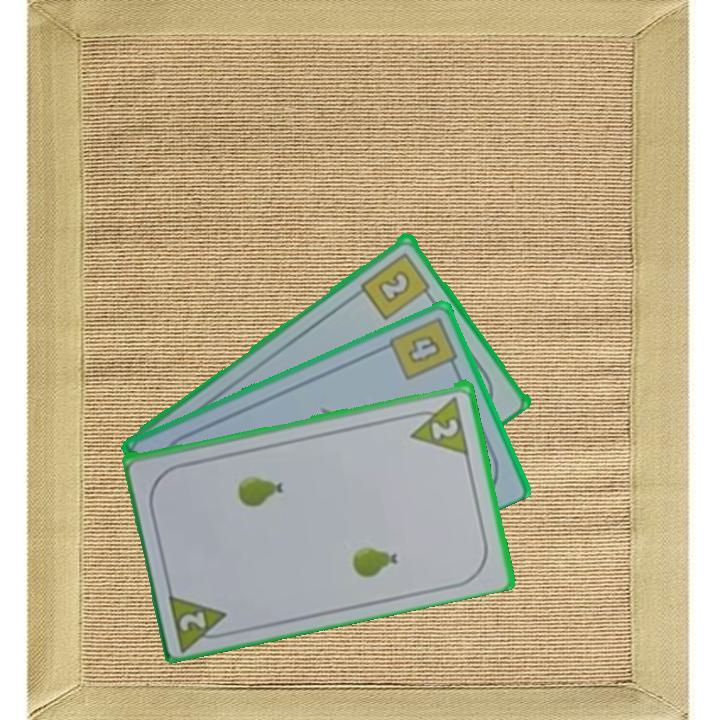2b: (357, 248, 437, 322)
2p: (165, 587, 235, 651), (428, 414, 462, 441)
4b: (385, 313, 462, 383)
